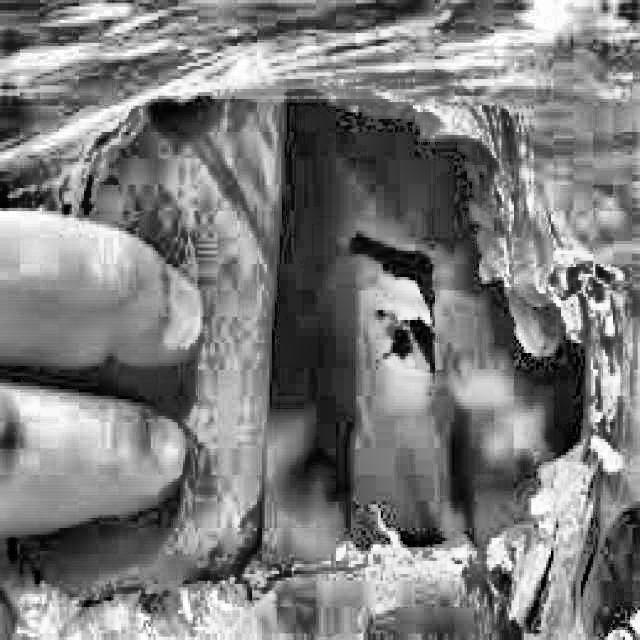box: (0, 0, 639, 639)
hole: (251, 103, 599, 594)
